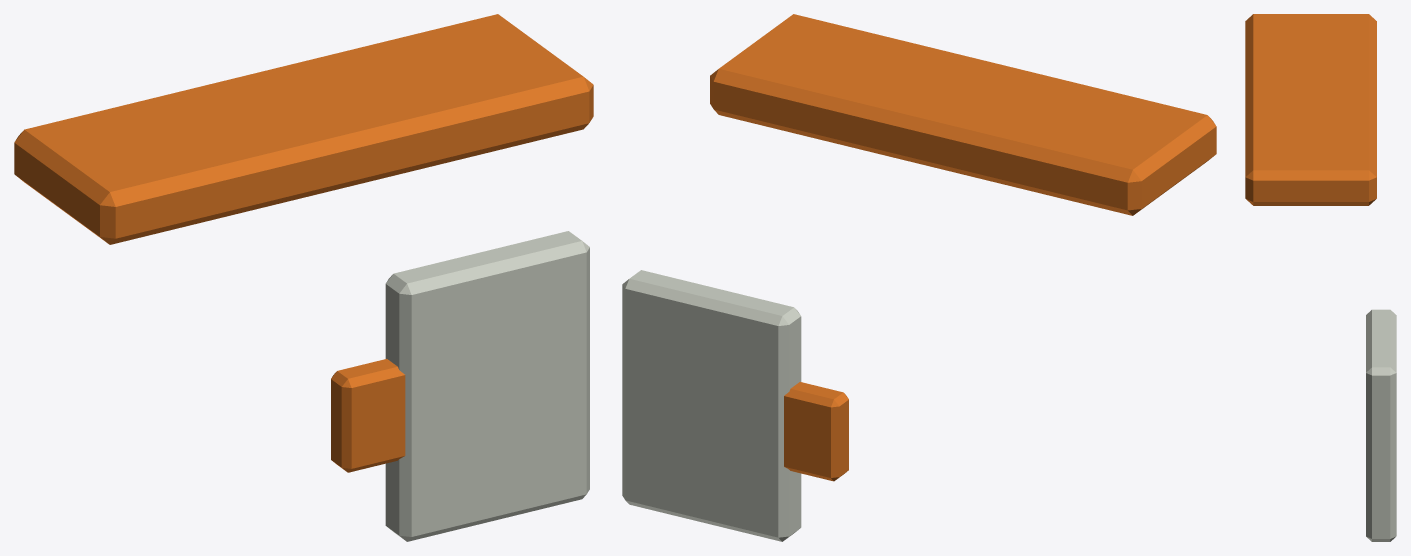
File: manager.glb
3 renders of one model, left to right at view 1: azimuth 30°, elevation 25°; view 2: azimuth 150°, elevation 25°; view 3: azimuth 270°, elevation 25°, orthographic. The views are drawn at different scales.
Parts seen in each view (by area): view 1: manager_head, manager_torso; view 2: manager_head, manager_torso; view 3: manager_head, manager_torso.
Part boxes in pixels (box(x1,y1,x2,y2)): manager_head: box(14, 14, 593, 244); manager_torso: box(331, 231, 589, 541); manager_head: box(710, 14, 1216, 215); manager_torso: box(622, 270, 848, 541); manager_head: box(1245, 14, 1376, 205); manager_torso: box(1366, 309, 1396, 541).
Bounding box in the file's own units: 0.515 × 0.4325 × 0.1725.
